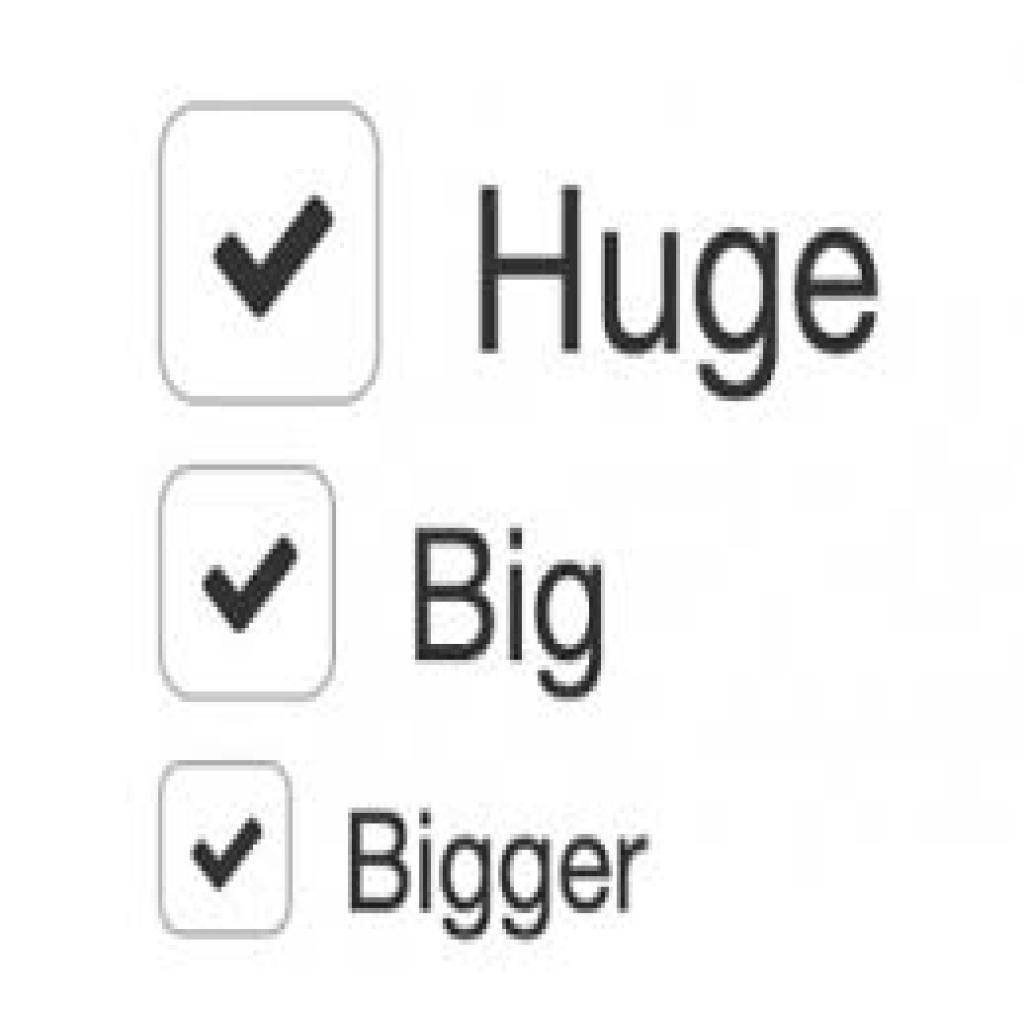checkbox: (145, 85, 390, 416), (150, 454, 344, 715), (150, 748, 303, 951)
